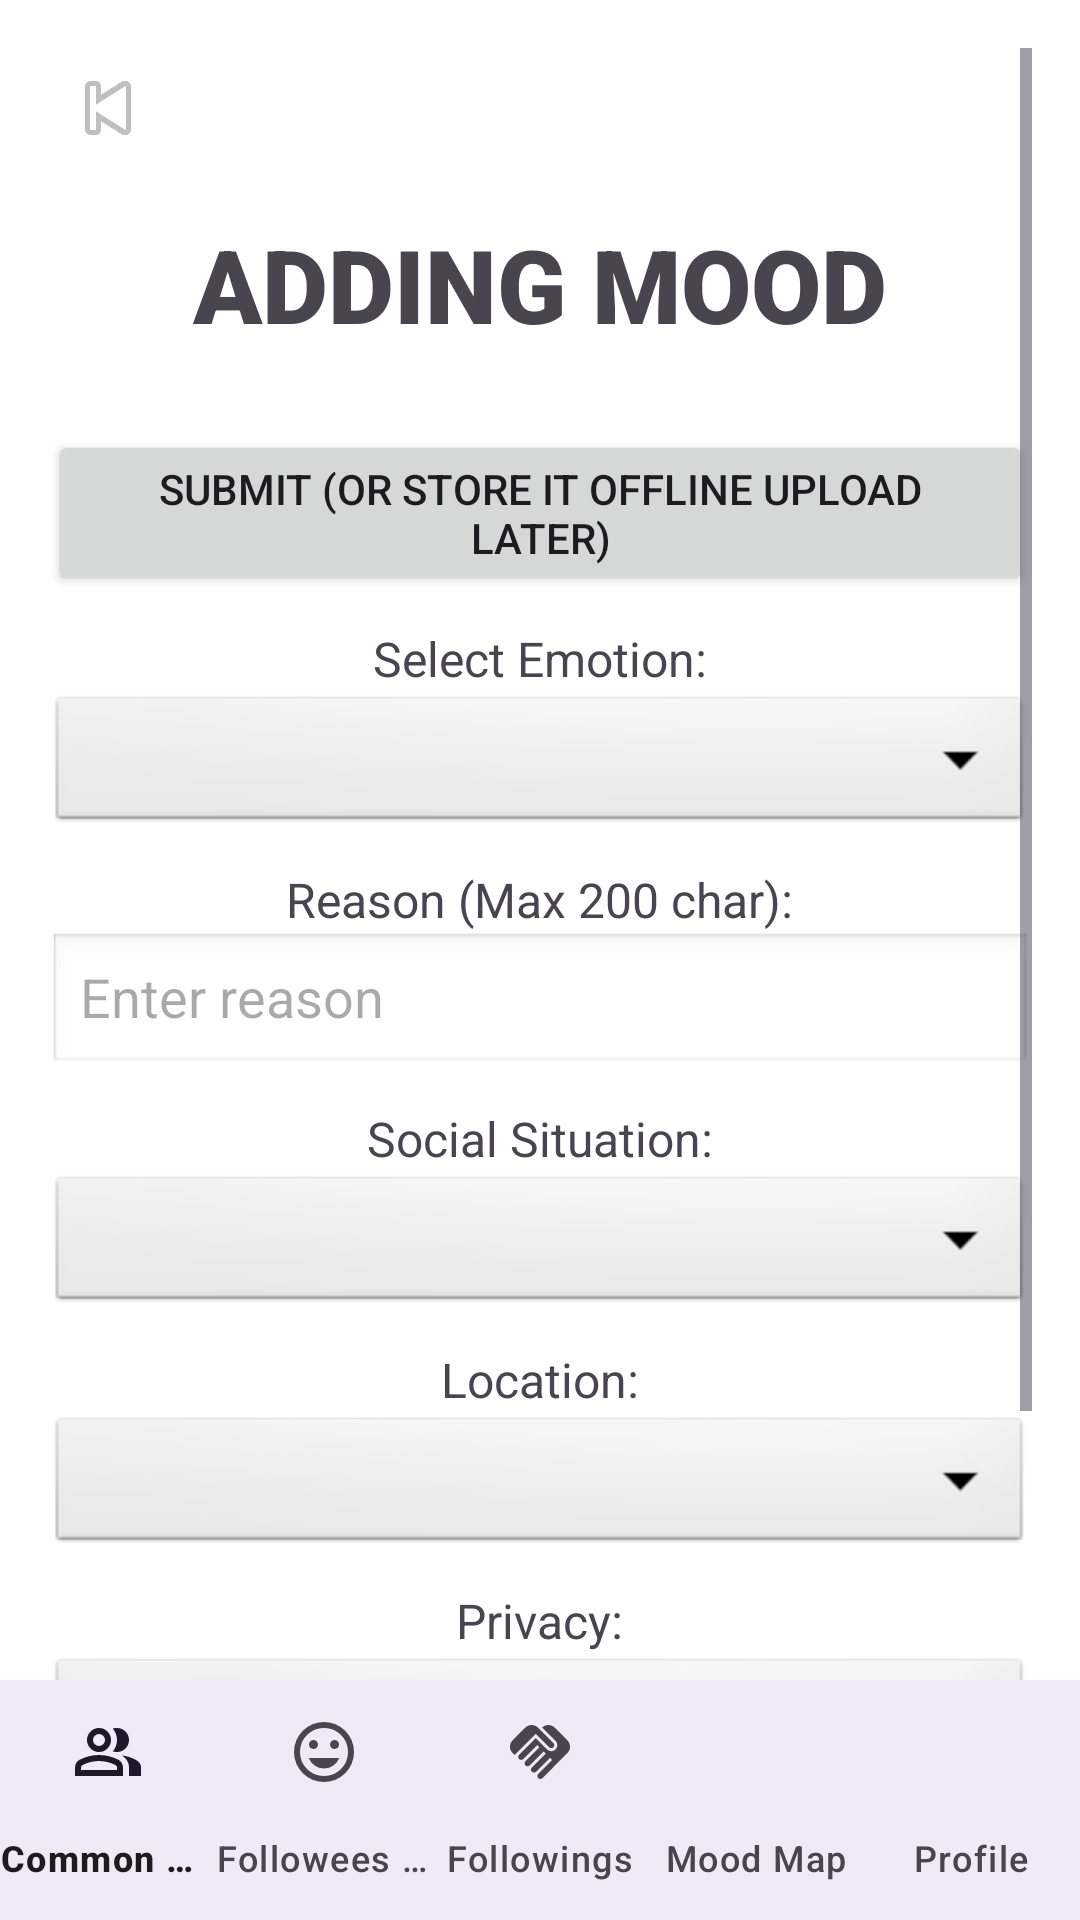

Where to tap for icons on this 1080x1920 app screen, as (x=x, y=y):
previous: (x=108, y=108)
